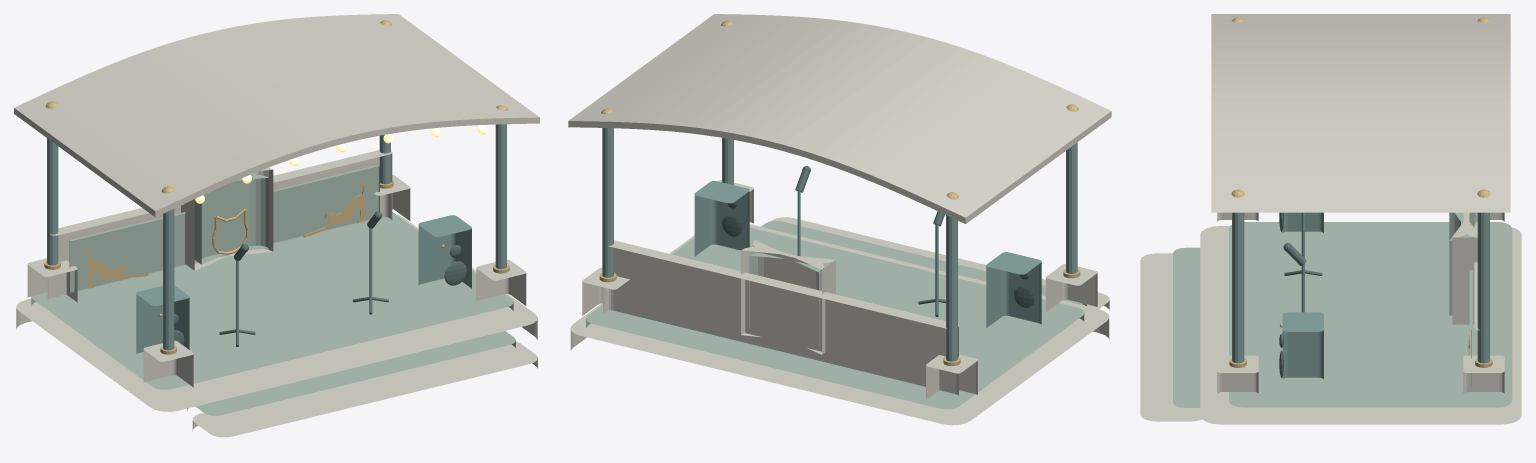
File: komichi-stage-cat.glb
3 renders of one model, left to right at view 1: azimuth 30°, elevation 25°; view 2: azimuth 150°, elevation 25°; view 3: azimuth 270°, elevation 25°, orthographic. The views are drawn at different scales.
Visible parts, largest first — view 1: Stage_Main, Microphone_R, Microphone_L; view 2: Stage_Main, Microphone_L; view 3: Stage_Main, Microphone_R.
Part boxes in pixels (x1=…): Stage_Main: x1=14, y1=14, x2=539, y2=437; Microphone_R: x1=352, y1=211, x2=388, y2=314; Microphone_L: x1=219, y1=244, x2=255, y2=346; Stage_Main: x1=568, y1=14, x2=1111, y2=425; Microphone_L: x1=918, y1=211, x2=945, y2=316; Stage_Main: x1=1140, y1=14, x2=1521, y2=424; Microphone_R: x1=1283, y1=243, x2=1306, y2=312.
Bounding box in the file's own units: 4.9 × 3.06 × 3.97.
